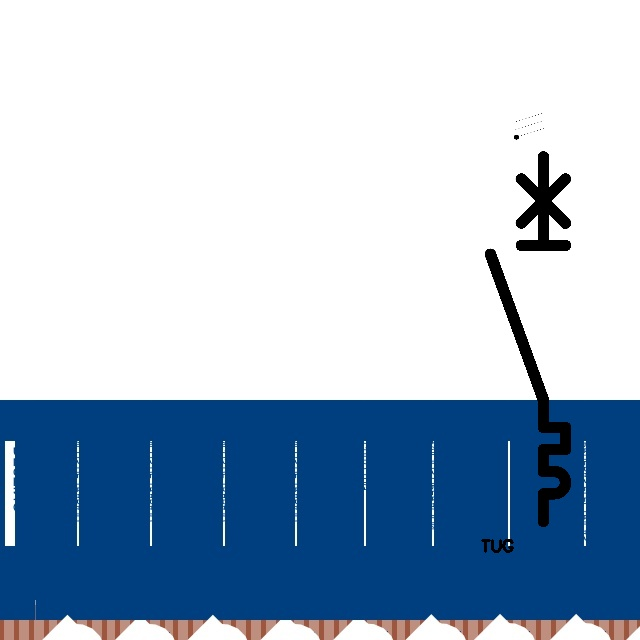interruptor_termomagnetico: (481, 147, 575, 530)
